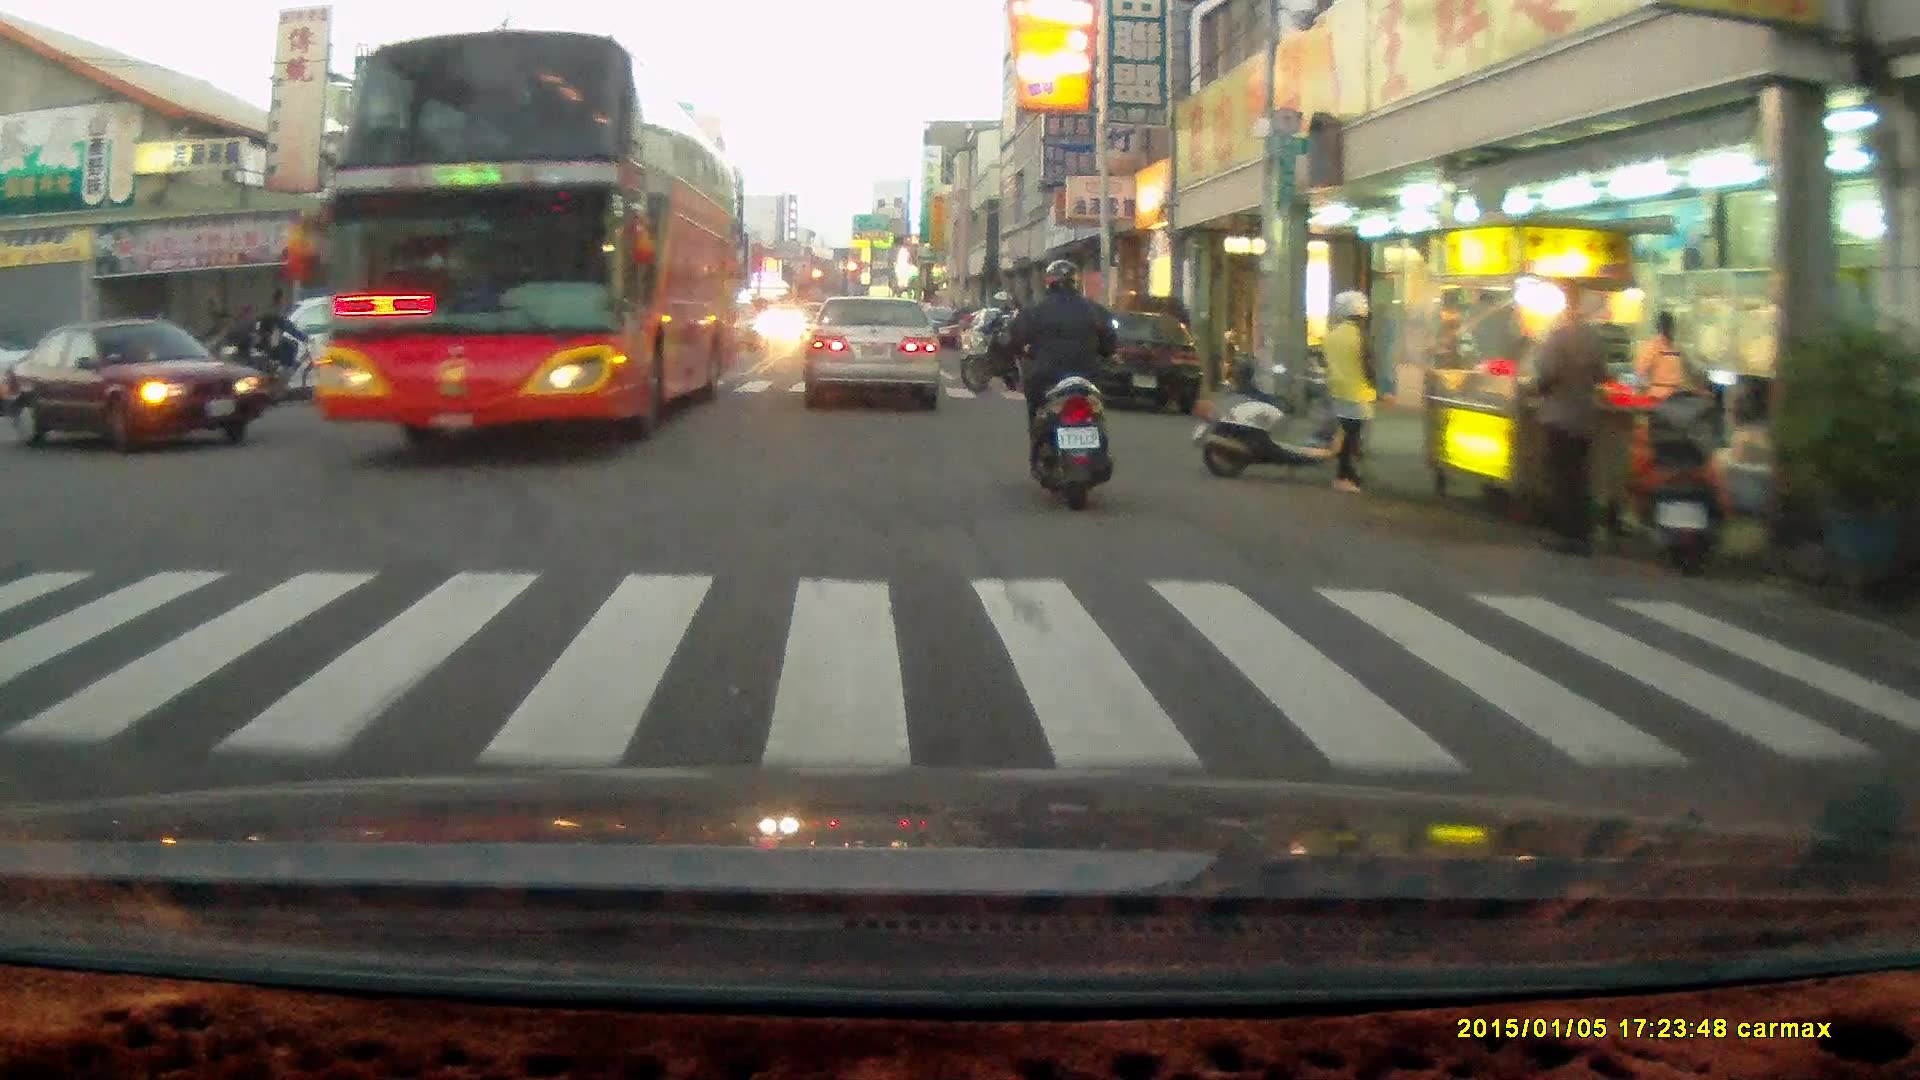pedestrian: (1531, 278, 1608, 557), (1319, 288, 1382, 493), (1634, 308, 1694, 485)
rider: (1002, 250, 1119, 502), (232, 289, 338, 408), (958, 285, 1027, 392), (202, 302, 276, 399)
vehicle: (298, 45, 741, 447), (10, 312, 261, 455), (267, 295, 430, 401), (1054, 304, 1204, 415), (802, 296, 945, 407)
